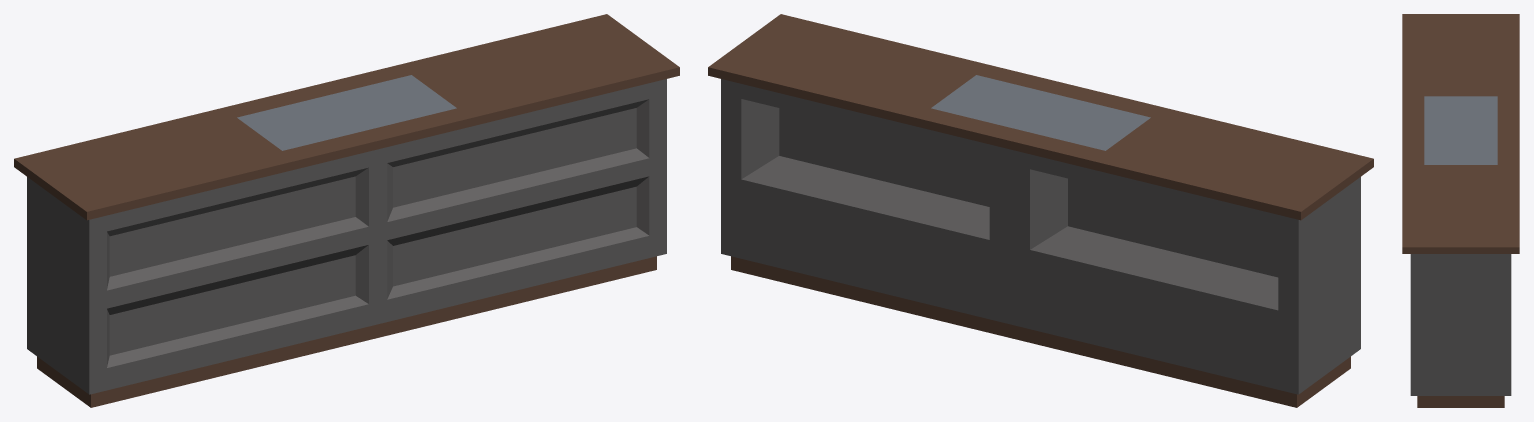
Rendered from SM_Prop_ShopCounter_02.fbx.
The picture shows the model from 3 angles, left to right: view 1: azimuth 30°, elevation 25°; view 2: azimuth 150°, elevation 25°; view 3: azimuth 270°, elevation 25°; orthographic projection. The views are drawn at different scales.
Parts seen in each view (by area): view 1: SM_Prop_ShopCounter_02; view 2: SM_Prop_ShopCounter_02; view 3: SM_Prop_ShopCounter_02.
Boxes of the visible parts, x1=… form: SM_Prop_ShopCounter_02: x1=14, y1=14, x2=679, y2=407; SM_Prop_ShopCounter_02: x1=708, y1=14, x2=1373, y2=407; SM_Prop_ShopCounter_02: x1=1402, y1=14, x2=1519, y2=407.
Size of the model in its own units: 291 by 96.57 by 61.73.
